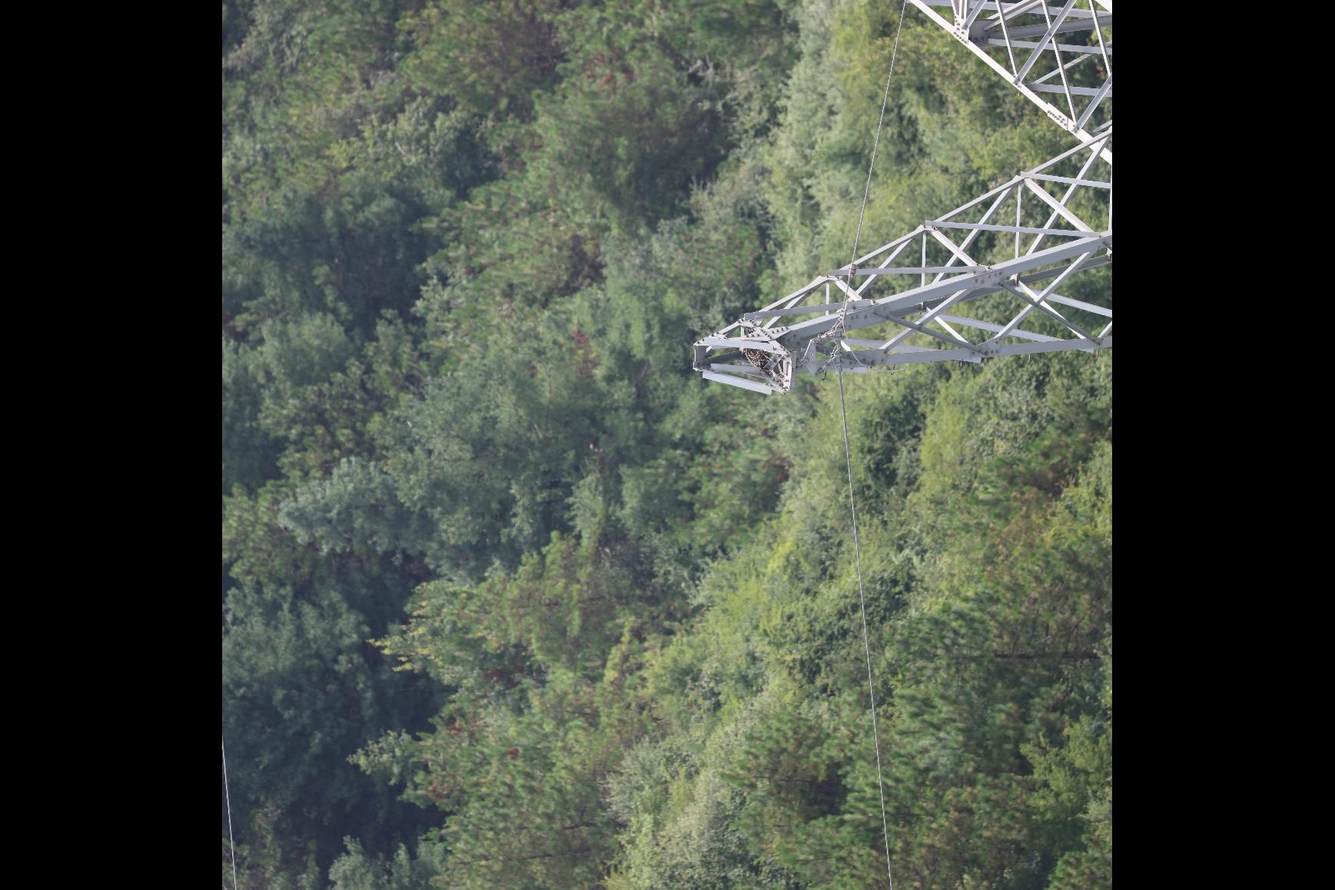nest: (742, 347, 772, 373)
